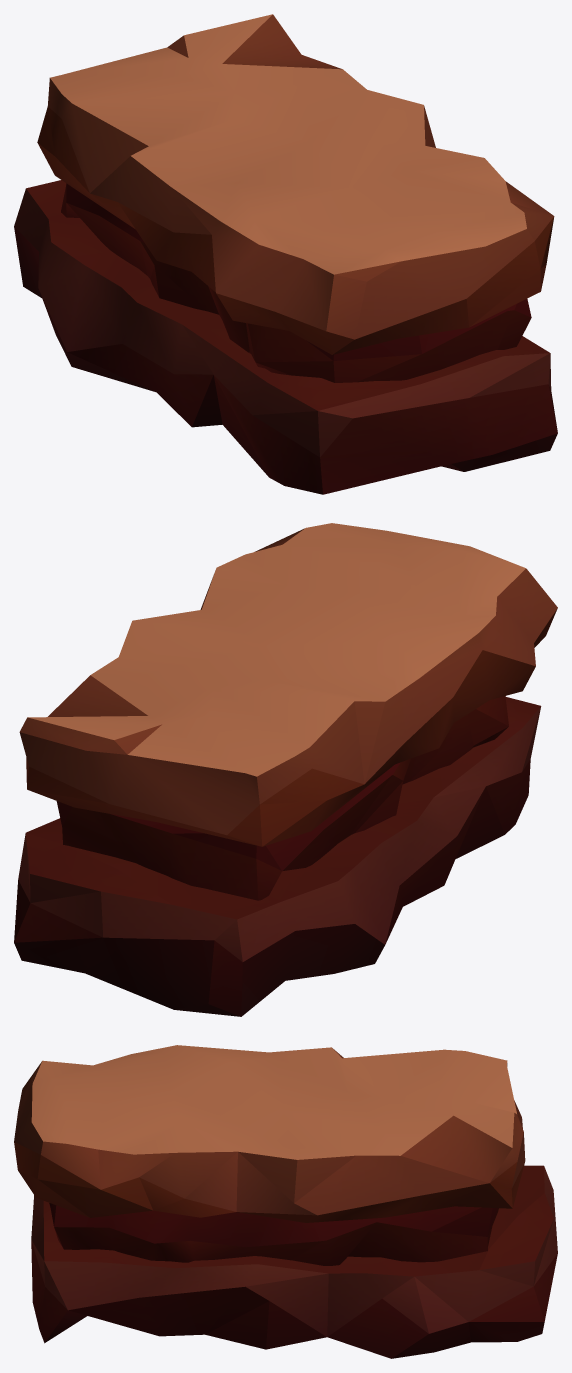
File: cliff2.fbx
3 renders of one model, top to bottom at view 1: azimuth 30°, elevation 25°; view 2: azimuth 150°, elevation 25°; view 3: azimuth 270°, elevation 25°, orthographic. The views are drawn at different scales.
Visible parts, largest first — view 1: cliff.001; view 2: cliff.001; view 3: cliff.001.
Part boxes in pixels (box(x1,y1,x2,y2)): cliff.001: box(14, 14, 557, 494); cliff.001: box(14, 523, 557, 1016); cliff.001: box(14, 1045, 557, 1358).
Size of the model in its own units: 12.9 by 9.25 by 22.
